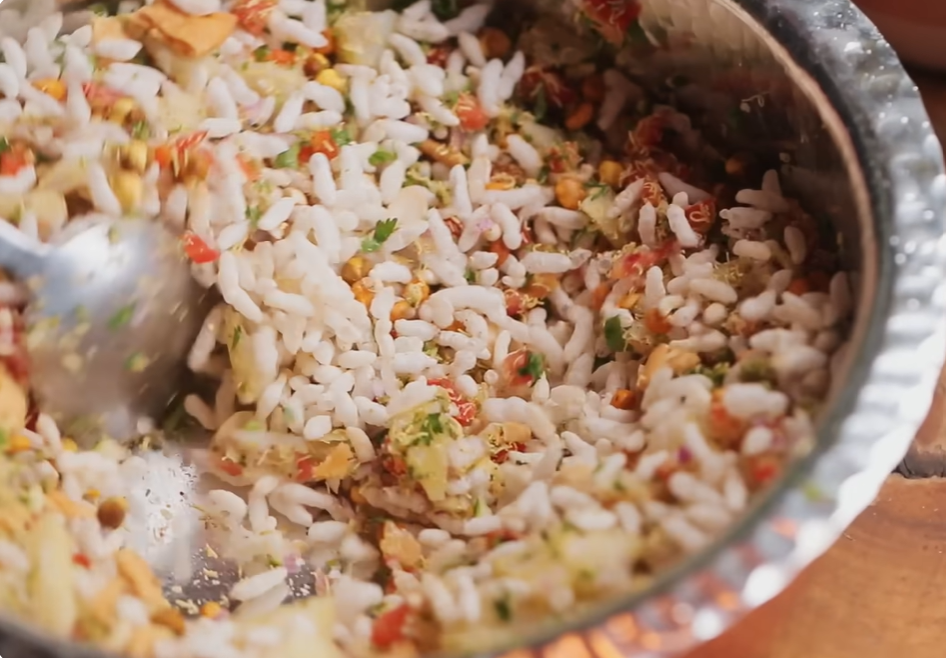chatpate: (44, 10, 764, 577)
